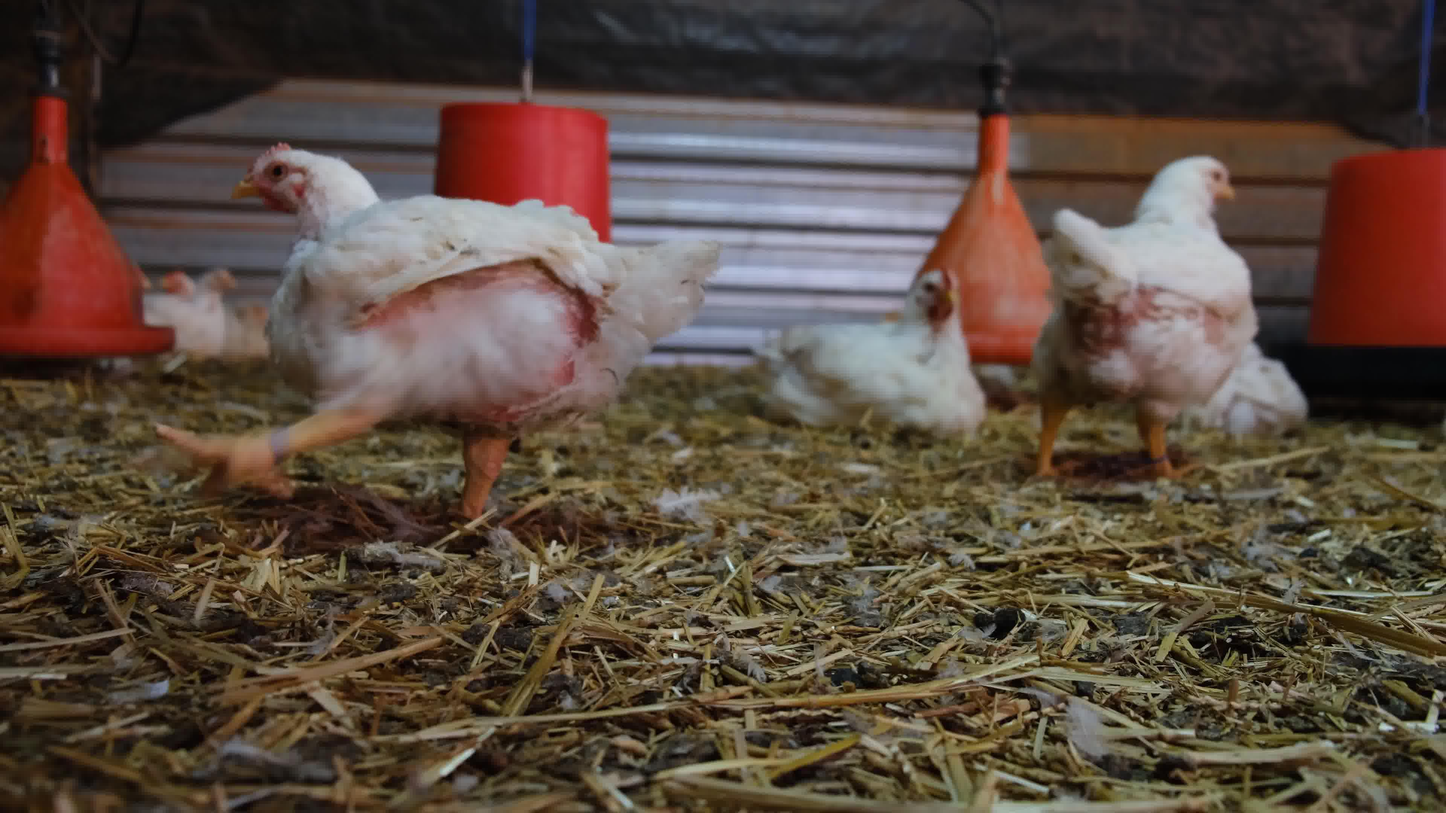AbNormal: (733, 262, 985, 448), (1171, 334, 1313, 441)
Normal: (155, 143, 721, 539), (1021, 155, 1260, 488), (155, 249, 278, 369), (131, 264, 239, 374)
